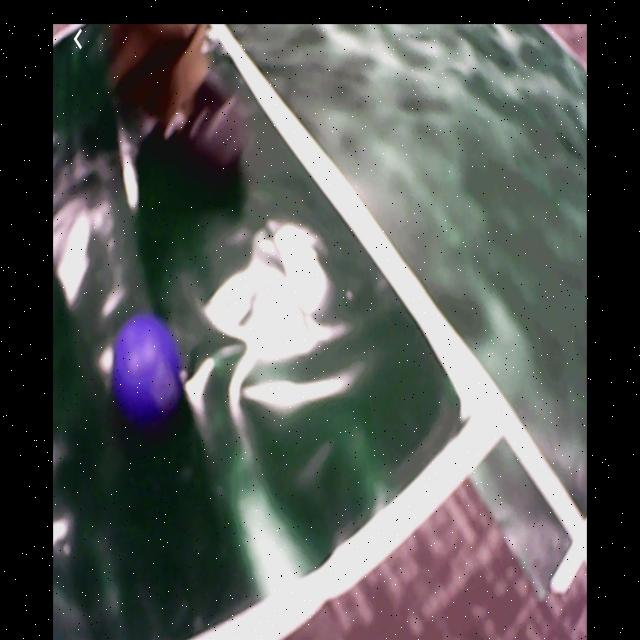ball: (107, 317, 181, 422)
